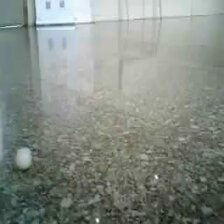w: (13, 146, 34, 171)
